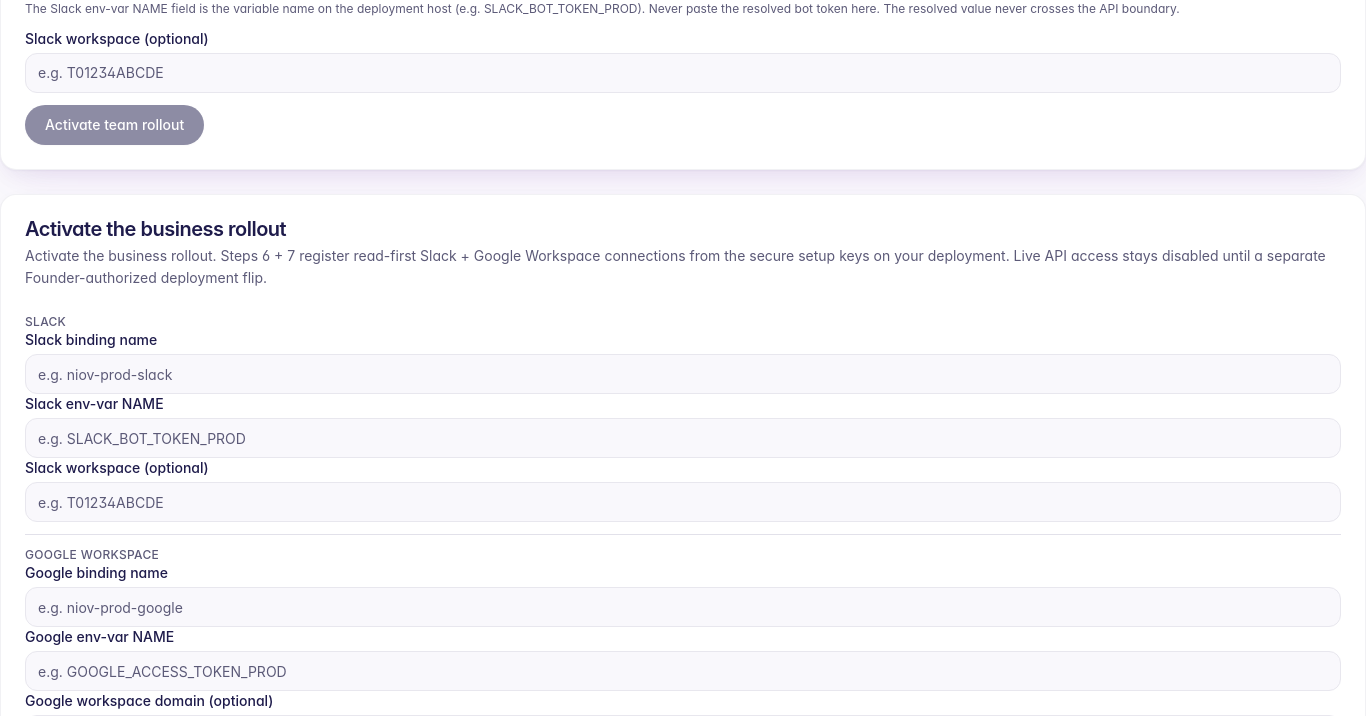
Test: D6 business — successful activation › renders the project+customer scope label at step 3
(page scrolled)
Type "niov-prod-slack" into the field with test id "business-slack-display-name-input" at (683, 374), box left=25, top=354, right=1341, bottom=394
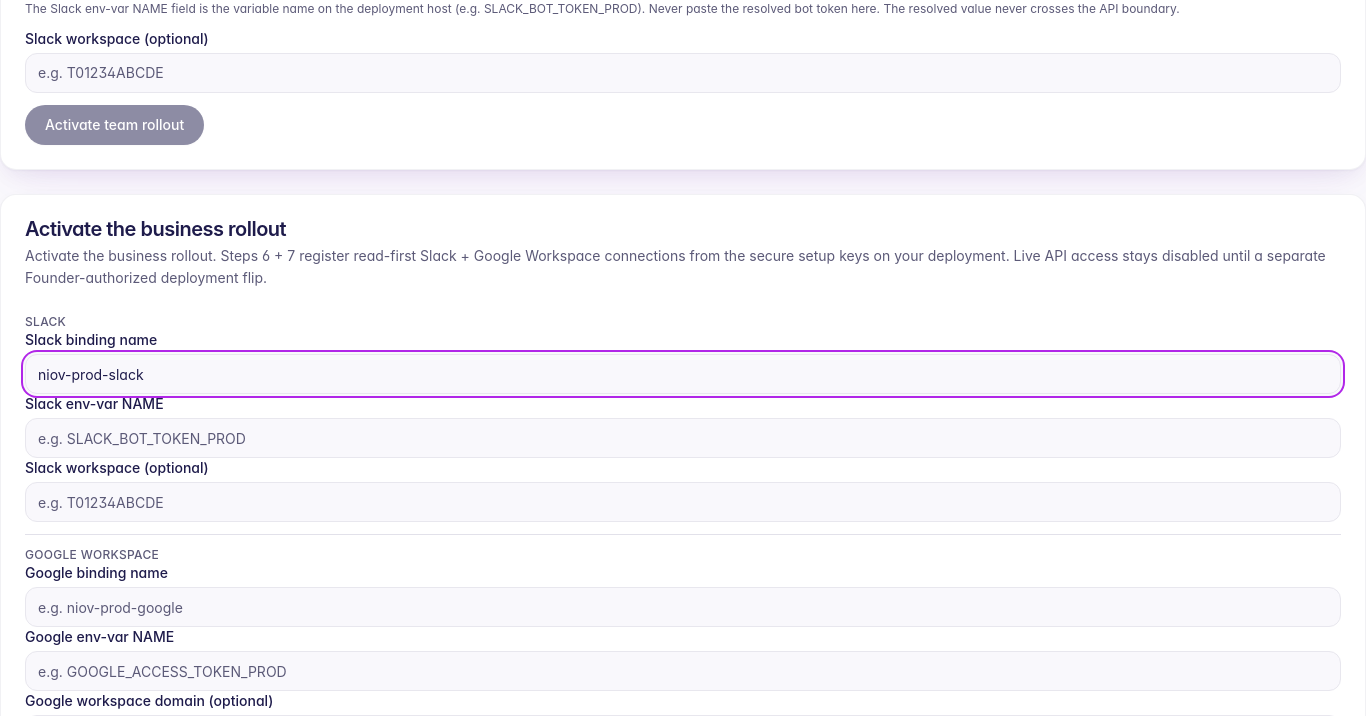
Type "SLACK_BOT_TOKEN_PROD" into the field with test id "business-slack-secret-ref-input" at (683, 438), box left=25, top=418, right=1341, bottom=458
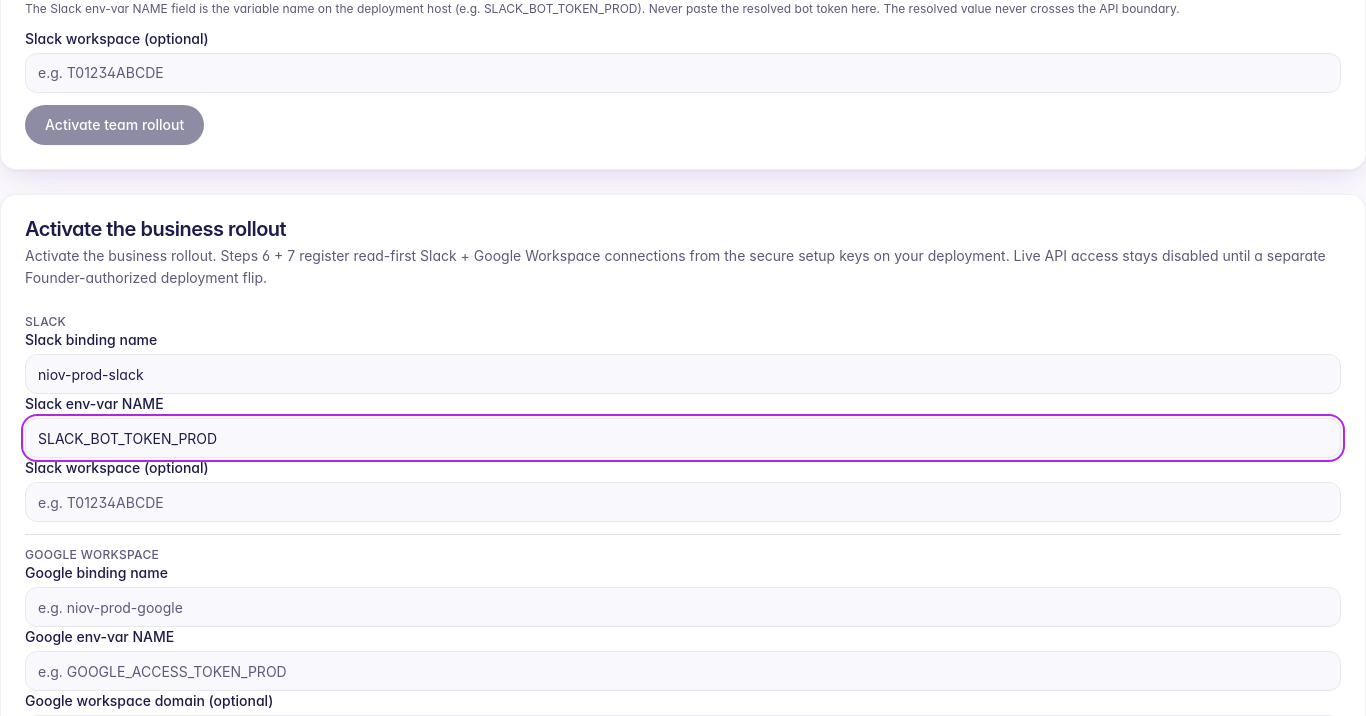
Type "niov-prod-google" into the field with test id "business-google-display-name-input" at (683, 607), box left=25, top=587, right=1341, bottom=627
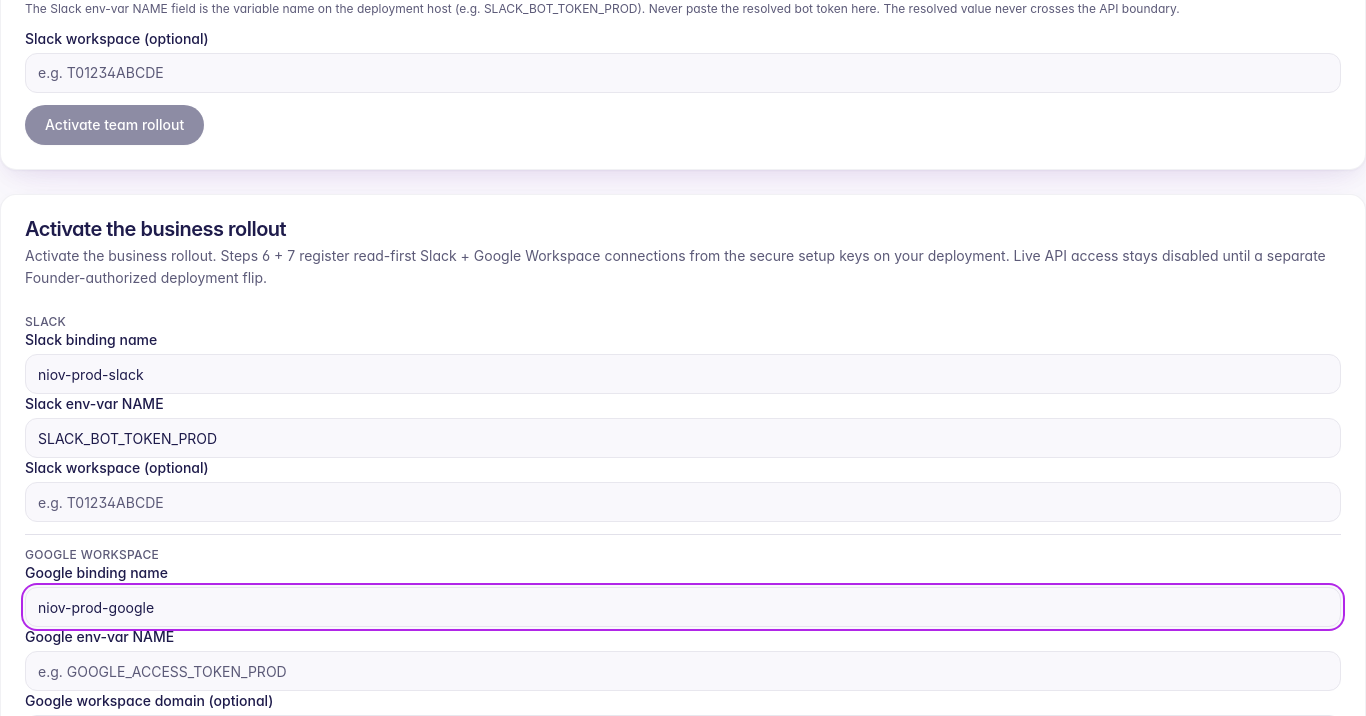
Type "GOOGLE_ACCESS_TOKEN_PROD" into the field with test id "business-google-secret-ref-input" at (683, 671), box left=25, top=651, right=1341, bottom=691
(page scrolled)
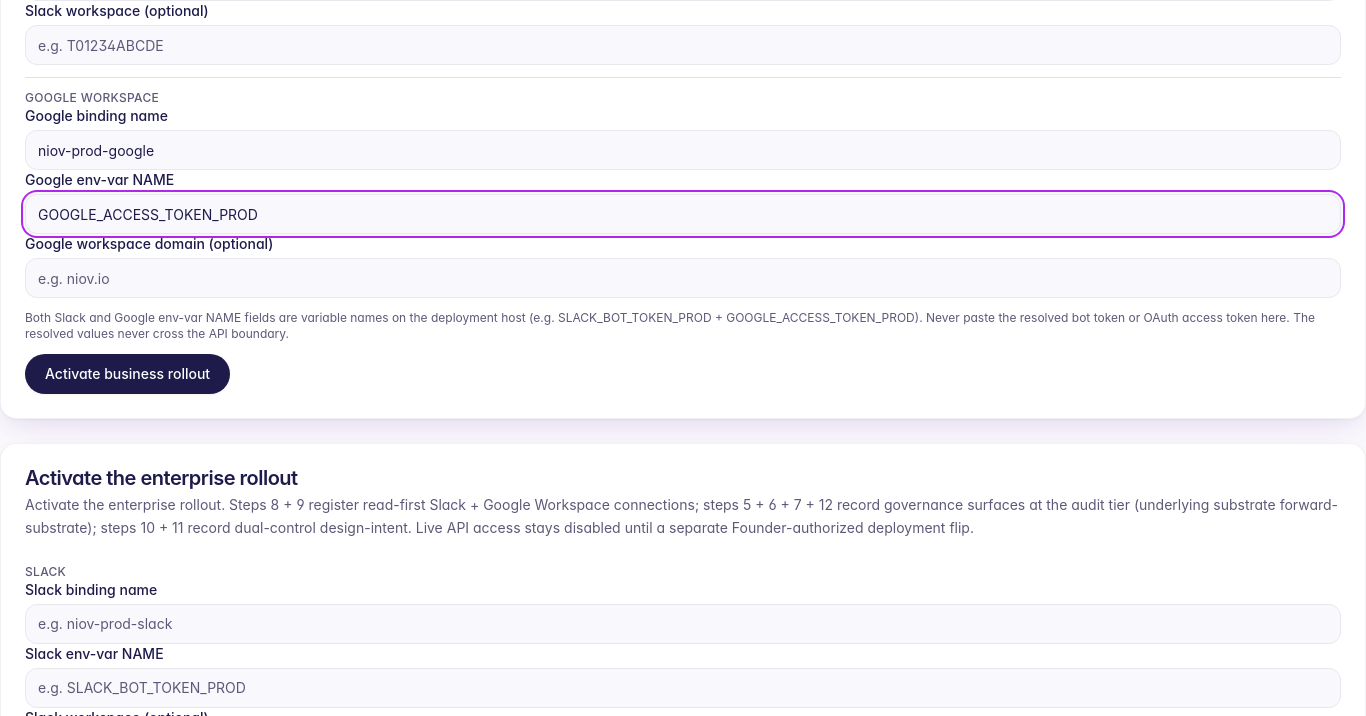
Click the button with test id "activate-business-button" at (128, 374), box left=25, top=354, right=230, bottom=394
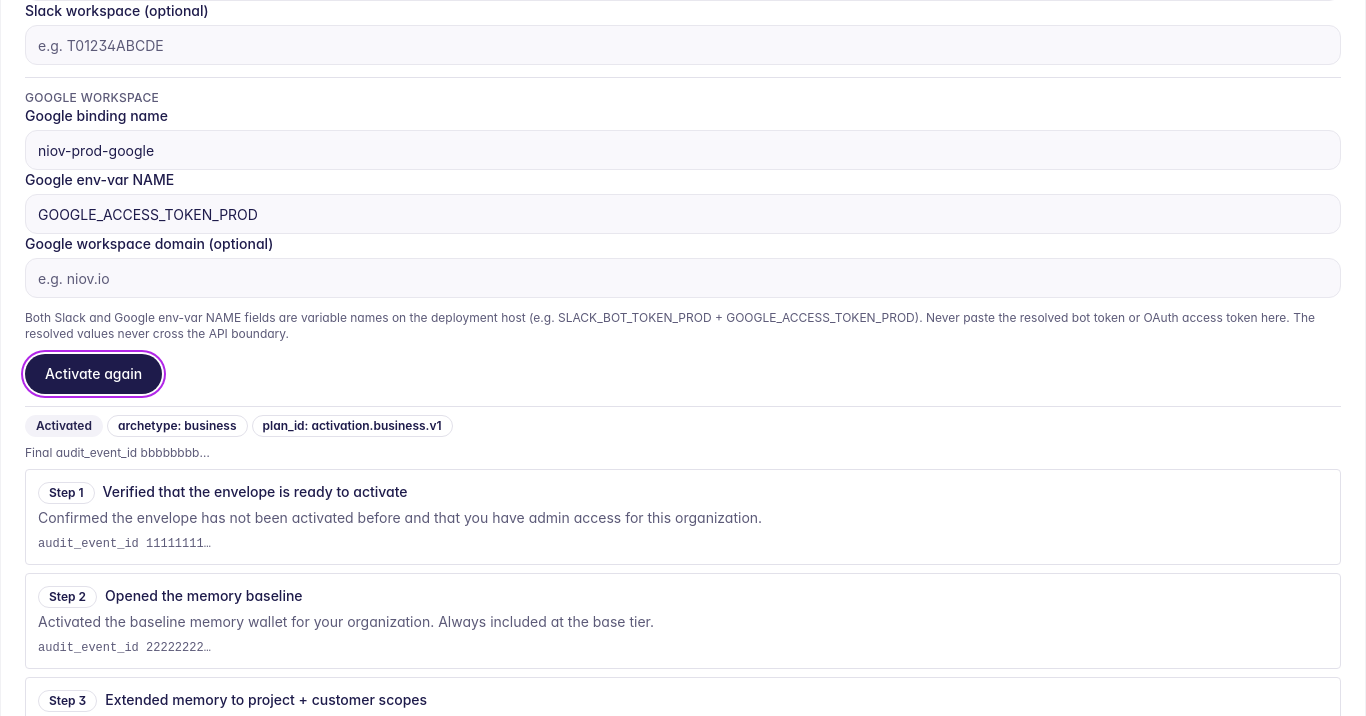
Expected: the text "Extended memory to project + customer scopes" is shown, left=105, top=690, right=427, bottom=710
